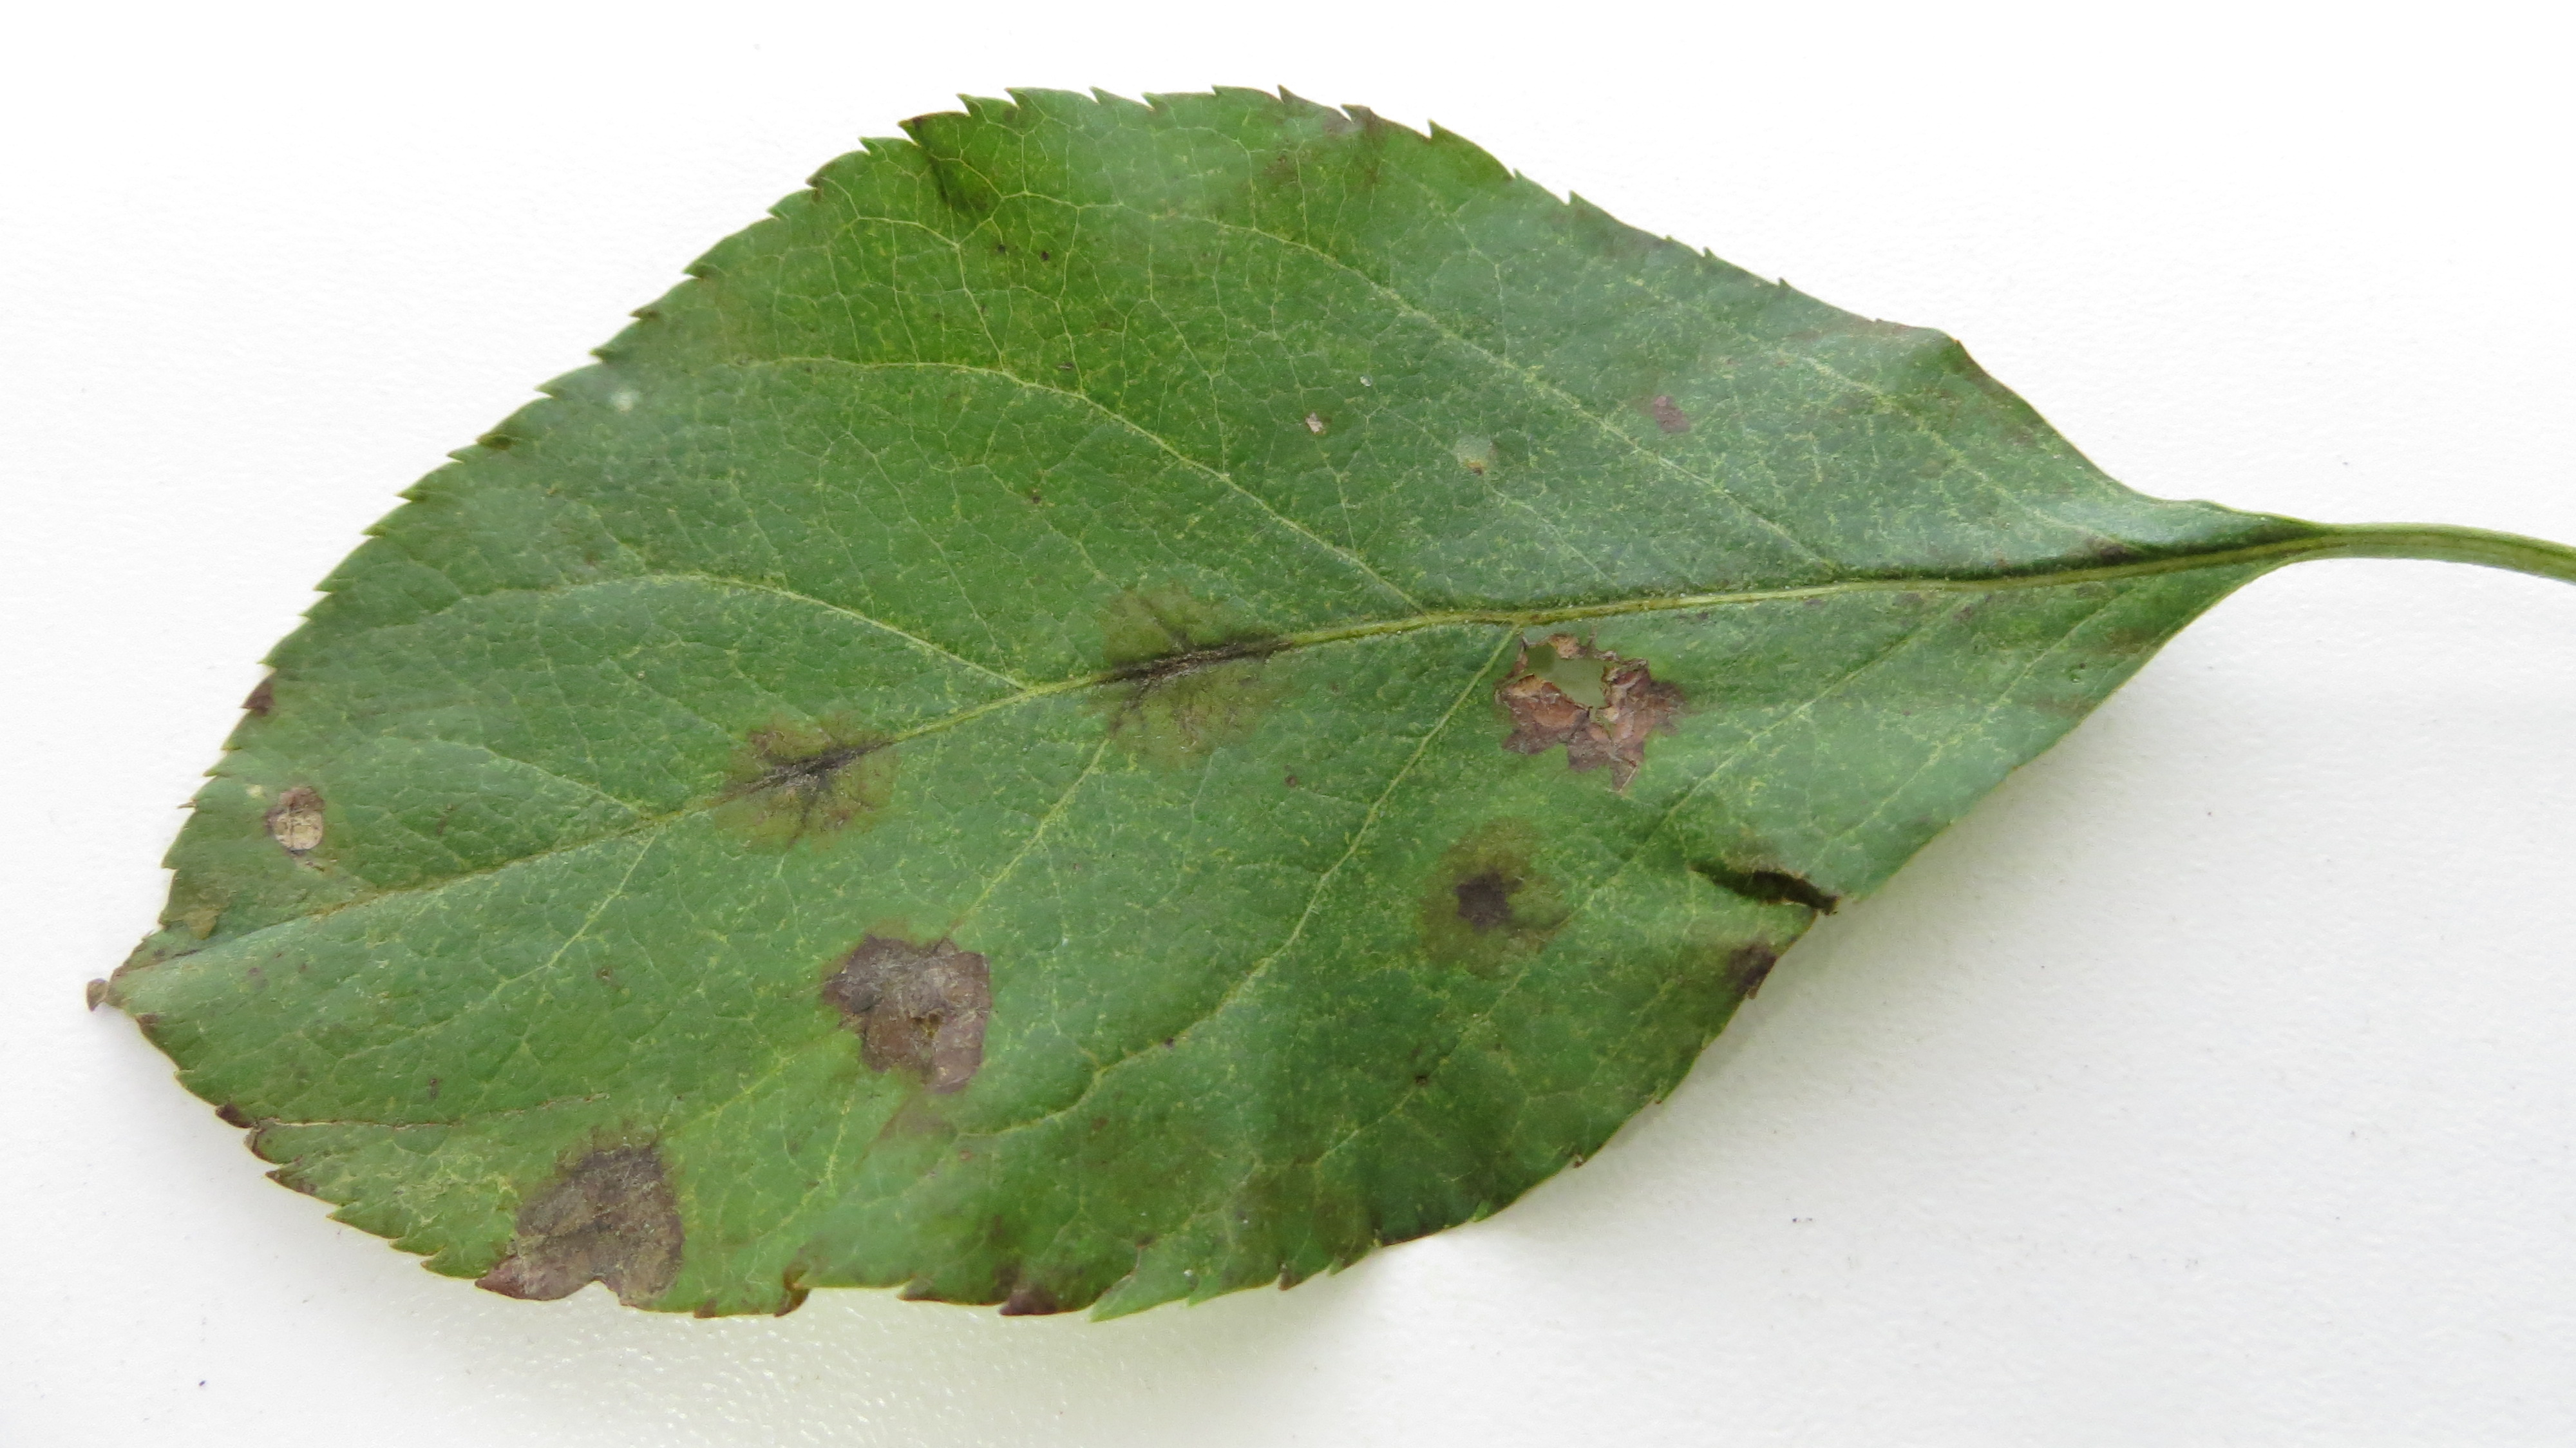sarna: (483, 1115, 694, 1326), (1079, 572, 1297, 770), (810, 919, 1012, 1094), (1486, 618, 1674, 793), (713, 682, 901, 855), (1405, 807, 1566, 981), (1072, 1051, 1226, 1202), (1214, 1151, 1371, 1266), (966, 1193, 1090, 1313), (1704, 830, 1826, 922), (1300, 92, 1407, 189), (1681, 913, 1785, 1005), (251, 766, 338, 873), (157, 866, 241, 952), (764, 1225, 837, 1321), (1238, 135, 1316, 223), (1387, 1020, 1454, 1115), (1430, 420, 1516, 492), (1628, 365, 1704, 444)
